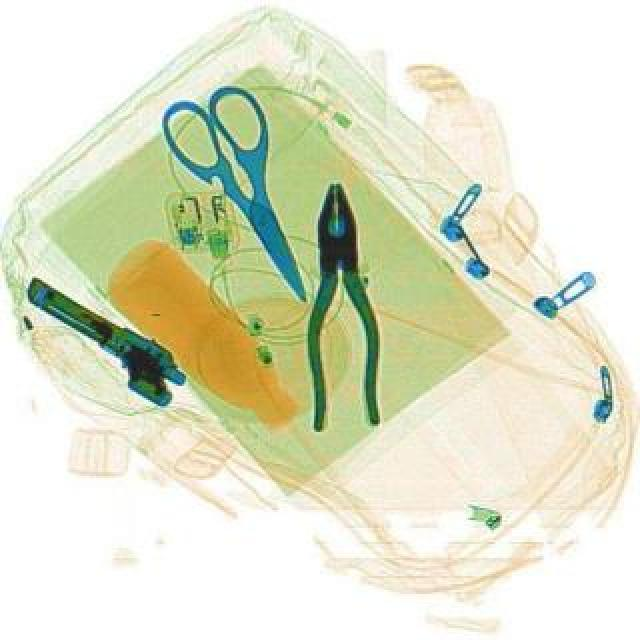gun: (2, 272, 194, 408)
pliers: (150, 72, 352, 322)
wrench: (298, 180, 382, 432)
